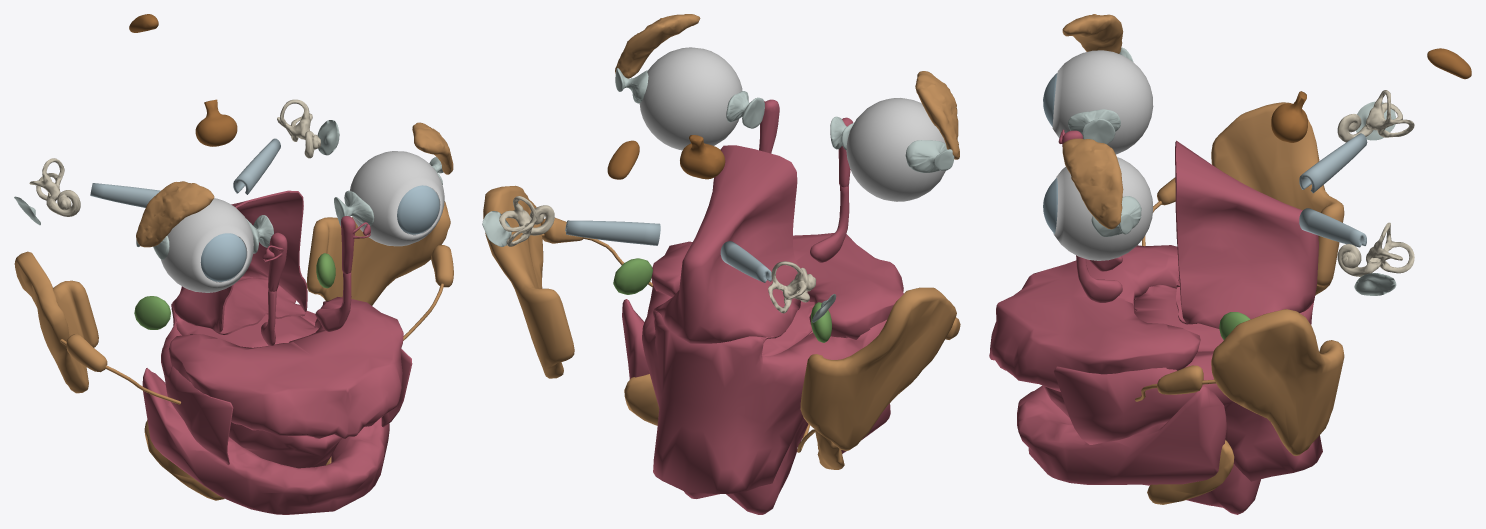
File: organs-head.glb
The picture shows the model from 3 angles, left to right: view 1: azimuth 30°, elevation 25°; view 2: azimuth 150°, elevation 25°; view 3: azimuth 270°, elevation 25°; orthographic projection. The views are drawn at different scales.
Parts seen in each view (by area): view 1: organ-gingiva, organ-parotid-gland-l, organ-nasopharynx, organ-parotid-gland-r, organ-sclera-l, organ-soft-palate, organ-sclera-r, organ-oropharynx, organ-tongue, organ-lacrimal-gland-r, organ-cornea-r, organ-cornea-l (+19 smaller); view 2: organ-oropharynx, organ-nasopharynx, organ-parotid-gland-r, organ-gingiva, organ-sclera-l, organ-sclera-r, organ-parotid-gland-l, organ-lacrimal-gland-l, organ-lacrimal-gland-r, organ-auditory-tube-l, organ-suspensory-ligament-of-eyeball-r, organ-tongue (+15 smaller); view 3: organ-gingiva, organ-nasopharynx, organ-parotid-gland-l, organ-oropharynx, organ-parotid-gland-r, organ-sclera-r, organ-sclera-l, organ-lacrimal-gland-l, organ-soft-palate, organ-tongue, organ-lacrimal-gland-r, organ-submandibular-gland-l (+14 smaller).
Boxes of the visible parts, bbox=[...] form: organ-gingiva: bbox=[142, 297, 403, 514]; organ-parotid-gland-l: bbox=[306, 201, 450, 305]; organ-nasopharynx: bbox=[172, 190, 307, 332]; organ-parotid-gland-r: bbox=[14, 251, 98, 393]; organ-sclera-l: bbox=[349, 151, 444, 246]; organ-soft-palate: bbox=[171, 278, 318, 347]; organ-sclera-r: bbox=[161, 198, 253, 292]; organ-oropharynx: bbox=[161, 276, 412, 465]; organ-tongue: bbox=[229, 422, 342, 468]; organ-lacrimal-gland-r: bbox=[136, 181, 214, 247]; organ-cornea-r: bbox=[200, 233, 246, 281]; organ-cornea-l: bbox=[397, 185, 439, 234]; organ-oropharynx: bbox=[642, 285, 886, 493]; organ-nasopharynx: bbox=[654, 145, 800, 343]; organ-parotid-gland-r: bbox=[800, 287, 956, 450]; organ-gingiva: bbox=[622, 233, 903, 453]; organ-sclera-l: bbox=[639, 47, 742, 150]; organ-sclera-r: bbox=[846, 98, 945, 201]; organ-parotid-gland-l: bbox=[483, 185, 574, 378]; organ-lacrimal-gland-l: bbox=[615, 14, 700, 78]; organ-lacrimal-gland-r: bbox=[915, 71, 959, 159]; organ-auditory-tube-l: bbox=[565, 220, 660, 245]; organ-suspensory-ligament-of-eyeball-r: bbox=[830, 116, 954, 172]; organ-tongue: bbox=[684, 330, 812, 514]; organ-gingiva: bbox=[989, 245, 1226, 484]; organ-nasopharynx: bbox=[1175, 140, 1318, 328]; organ-parotid-gland-l: bbox=[1211, 309, 1344, 455]; organ-oropharynx: bbox=[1054, 302, 1322, 481]; organ-parotid-gland-r: bbox=[1211, 102, 1344, 295]; organ-sclera-r: bbox=[1052, 50, 1153, 154]; organ-sclera-l: bbox=[1053, 157, 1153, 260]; organ-lacrimal-gland-l: bbox=[1062, 138, 1123, 229]; organ-soft-palate: bbox=[1134, 278, 1223, 351]; organ-tongue: bbox=[1043, 386, 1260, 514]; organ-lacrimal-gland-r: bbox=[1062, 14, 1123, 53]; organ-submandibular-gland-l: bbox=[1147, 440, 1234, 504].
Size of the model in its own units: 0.13 by 0.1228 by 0.12.
